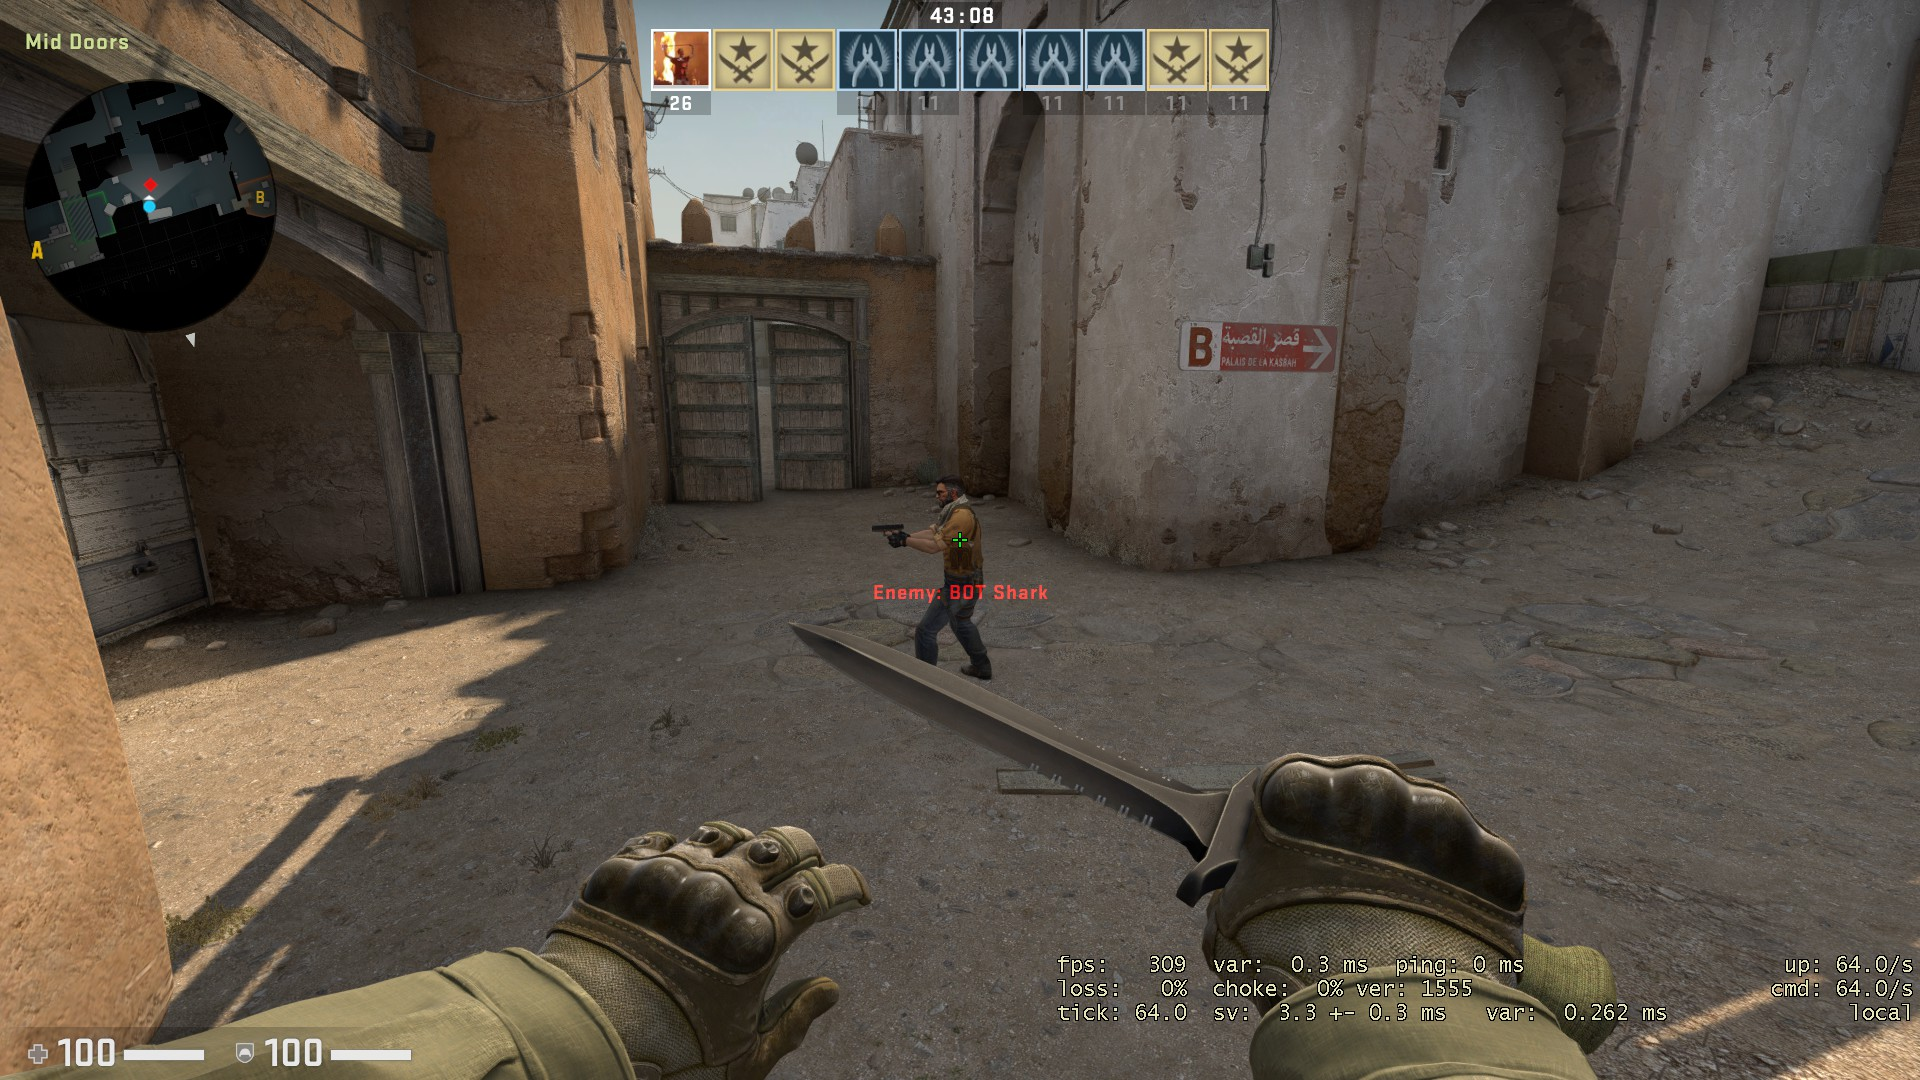player: (865, 463, 999, 685)
